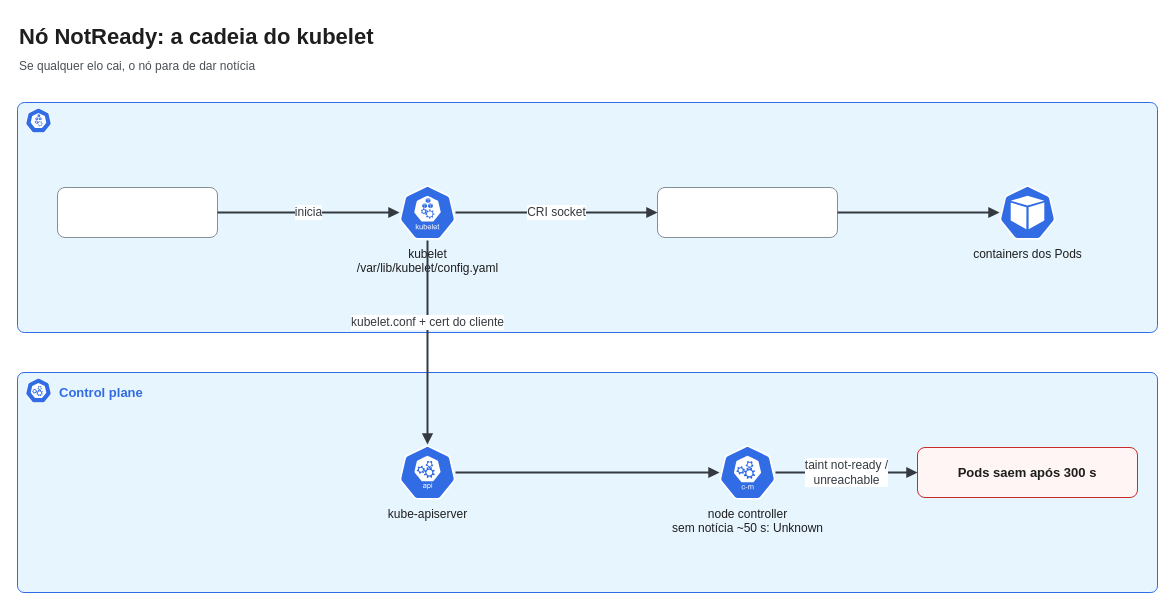
Image size: 1175x610. Some labels were removed from this diagram. Here are the shapes that lost their labels. From the top down, the box of each, then its label:
(56, 186, 218, 238): systemd
(16, 102, 1158, 332): Nó
(656, 186, 838, 238): containerd
